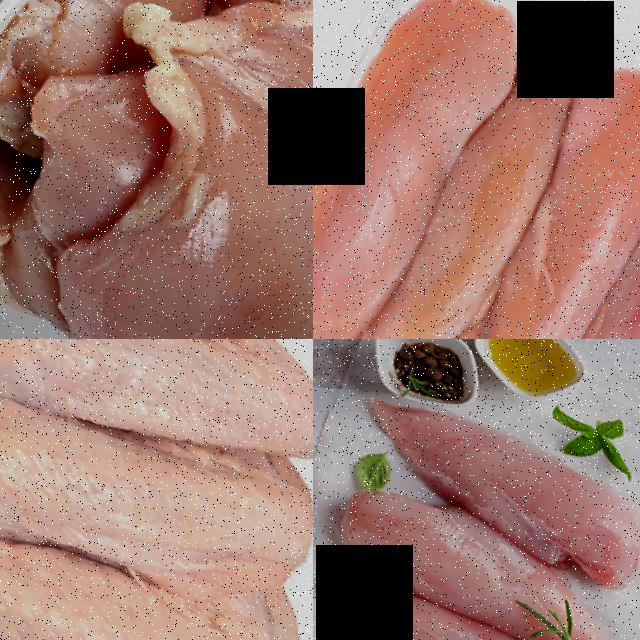chicken breast: (356, 0, 624, 339), (54, 0, 313, 339), (336, 362, 640, 600), (313, 0, 522, 339), (435, 37, 640, 339), (313, 463, 640, 640), (517, 101, 640, 339), (313, 565, 604, 640)
chicken wing: (0, 339, 313, 517)
